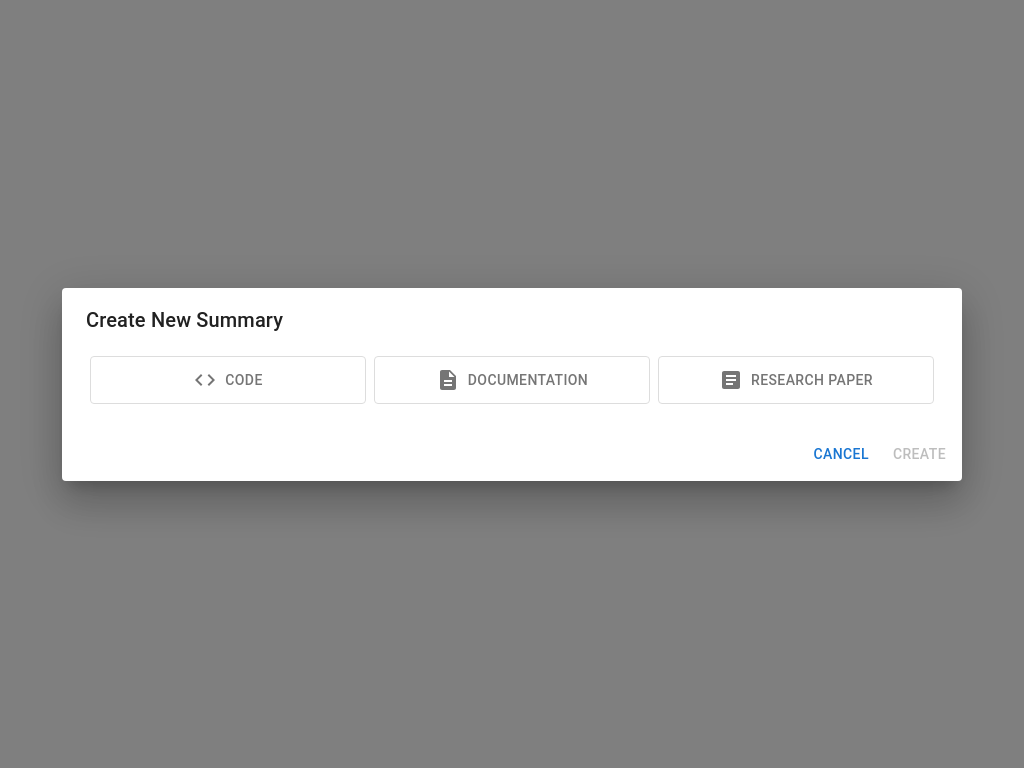
it: NewSummaryDialog Input Methods › handles file upload selection and shows correct formats
Click the button "Code": {"x": 228, "y": 380} [90,356,366,404]
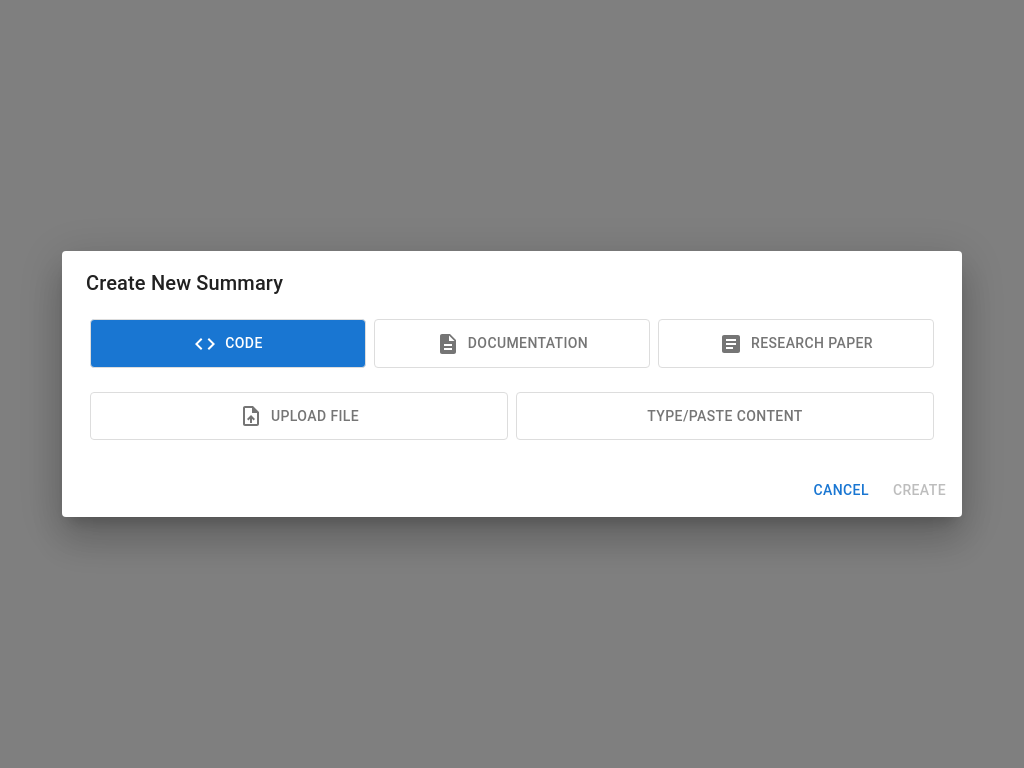
Click the button "Upload File": {"x": 299, "y": 416} [90,392,508,440]
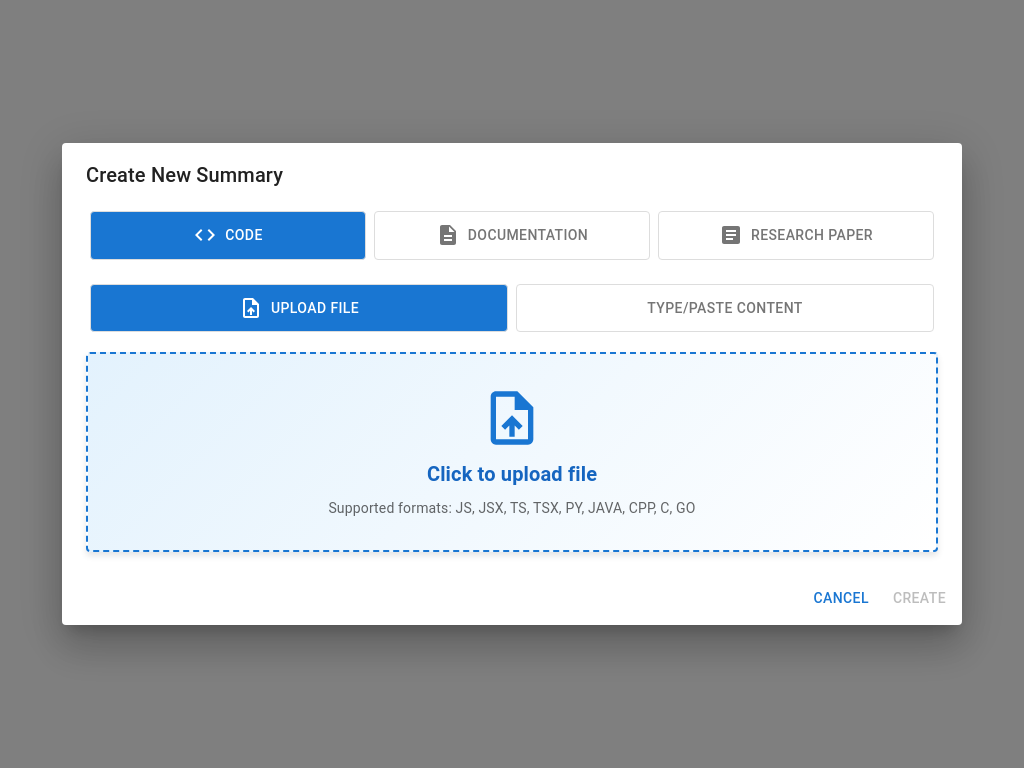
Result: the text "Supported formats: JS, JSX, TS, TSX, PY, JAVA, CPP, C, GO" is shown at [328,498,696,518]
Click the button "Documentation": {"x": 512, "y": 235} [374,211,650,260]
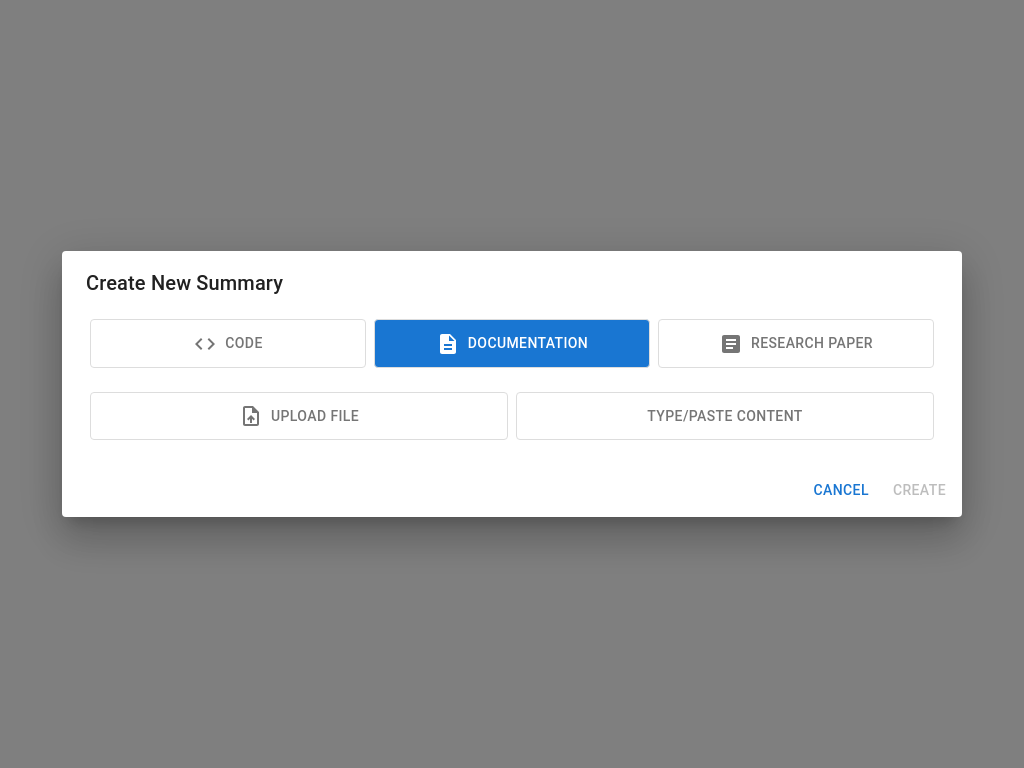
Click the button "Upload File": {"x": 299, "y": 416} [90,392,508,440]
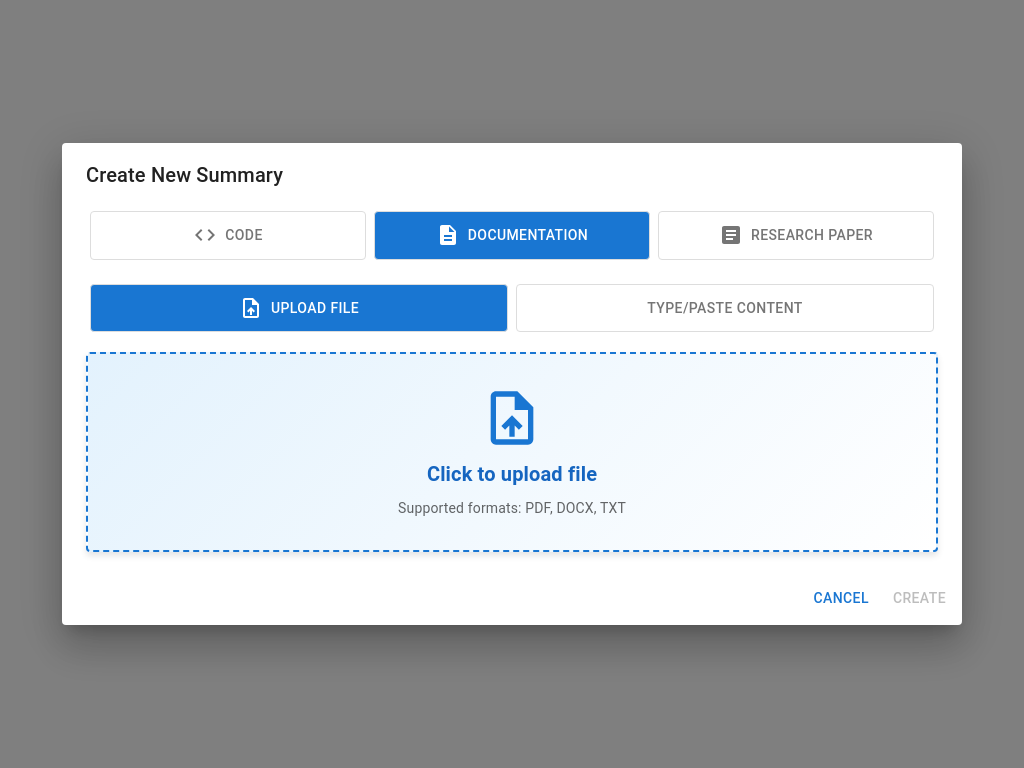
Result: the text "Supported formats: PDF, DOCX, TXT" is shown at [398,498,626,518]
Click the button "Research Paper": {"x": 796, "y": 235} [658,211,934,260]
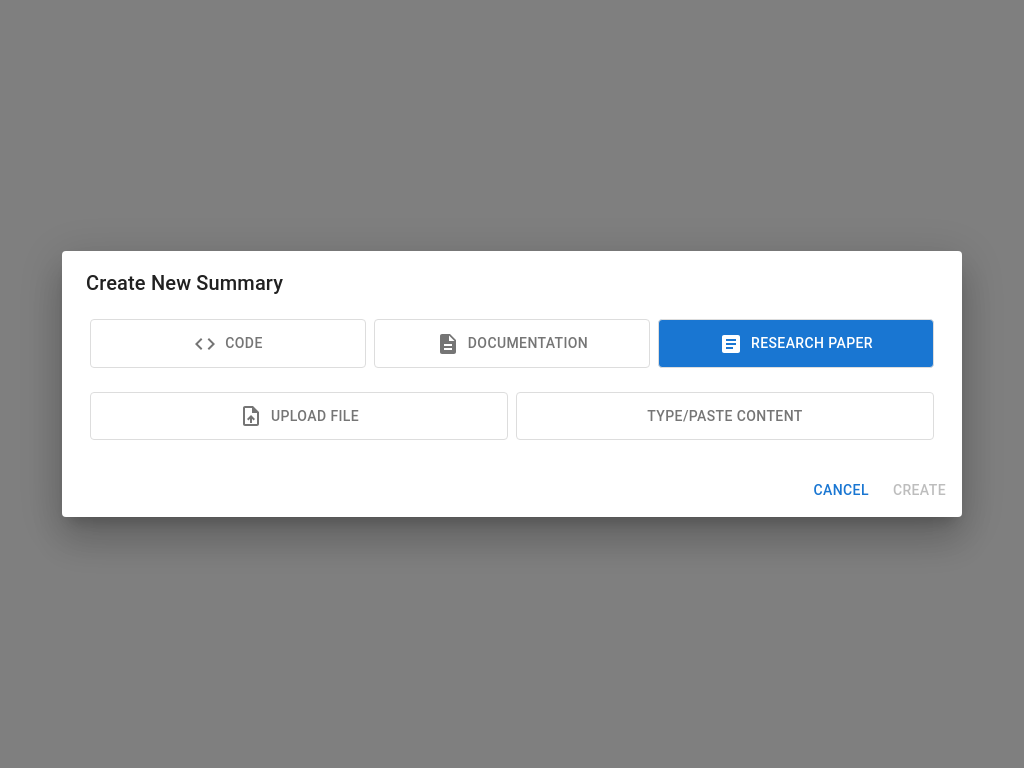
Click the button "Upload File": {"x": 299, "y": 416} [90,392,508,440]
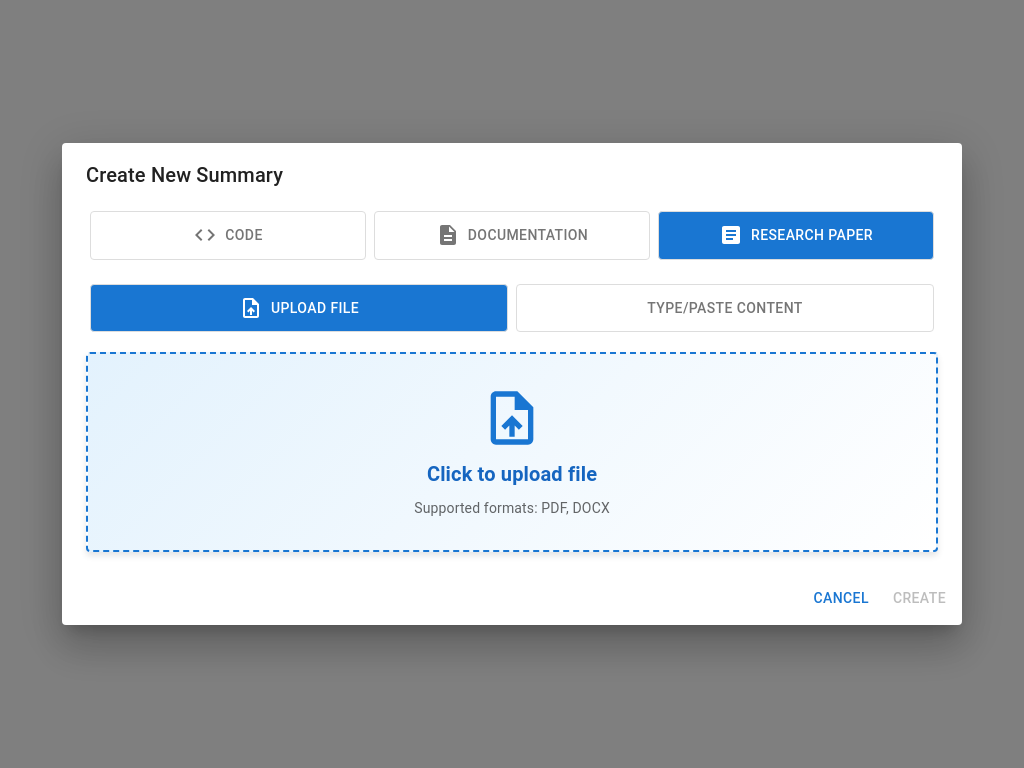
Result: the text "Supported formats: PDF, DOCX" is shown at [414,498,610,518]
